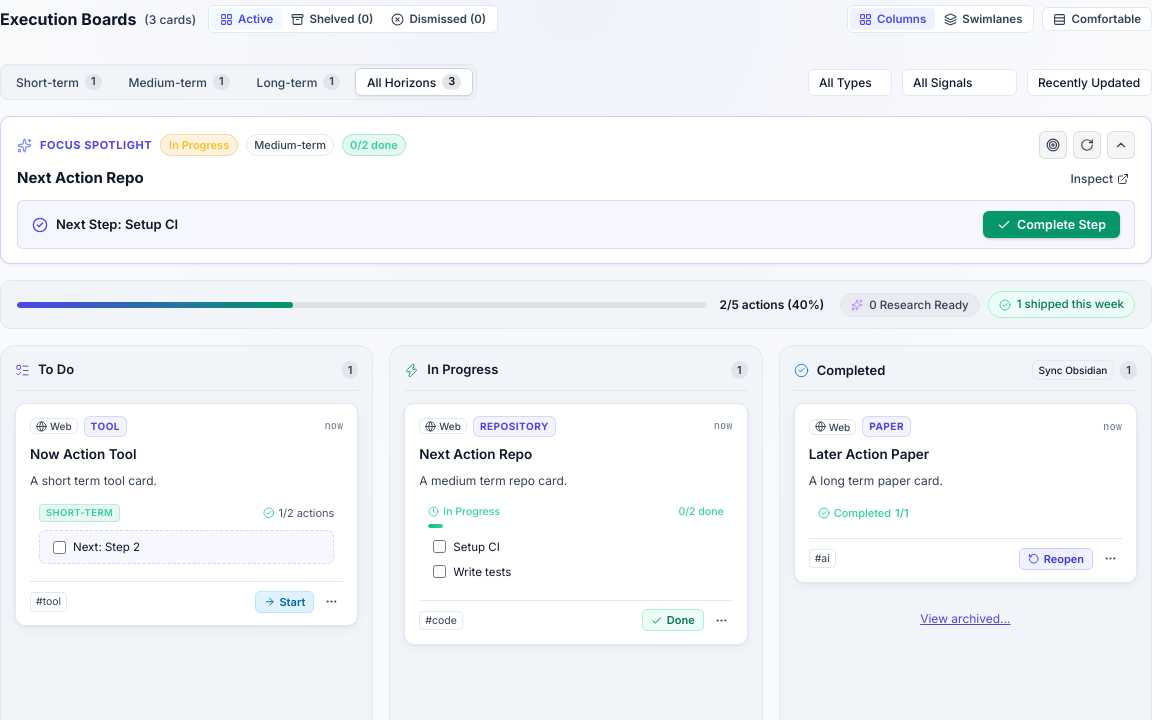
Test case: KanbanBoard Density & Usability › Execution Swimlanes (2D Strategic Matrix) › collapses and expands individual swimlane rows
Click the radio button labelled "Swimlanes": click(983, 19) [935,8,1032,30]
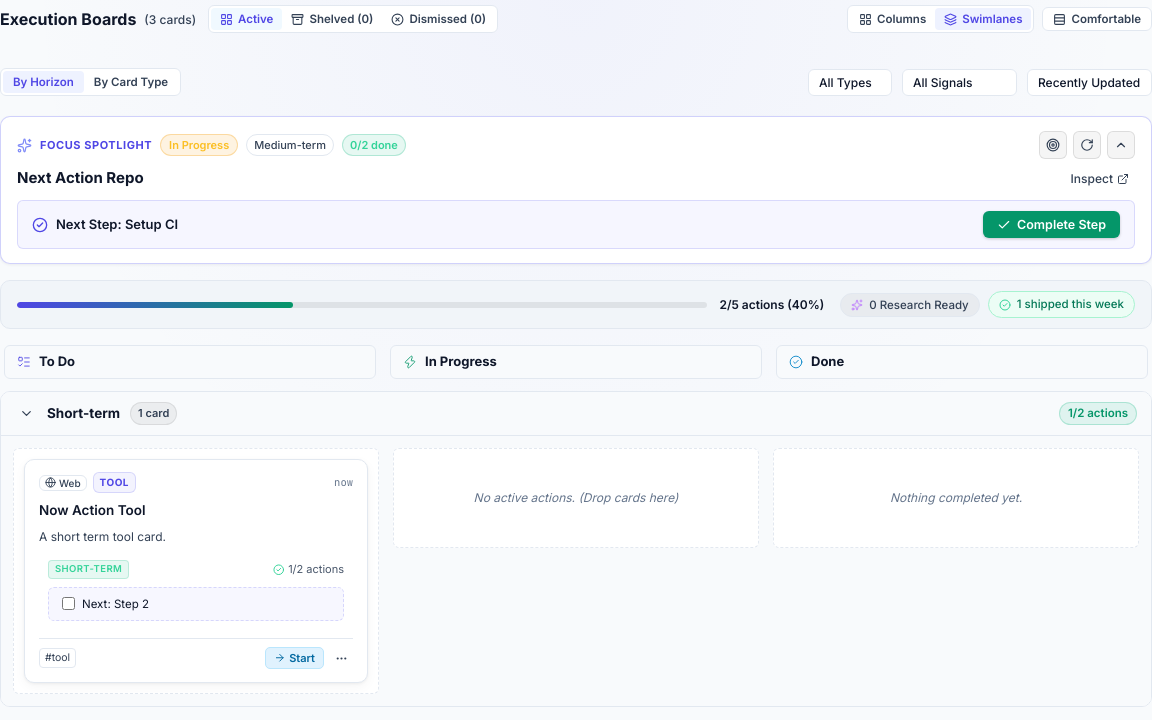
Expected: the element that starts with "Short-term" is shown, [0,391,1151,707]
Expected: the element with class "swimlane-grid" is shown, [1,436,1151,706]
Collapse Short-term row
Click the button with class "swimlane-collapse-btn": click(26, 413) [15,402,37,424]
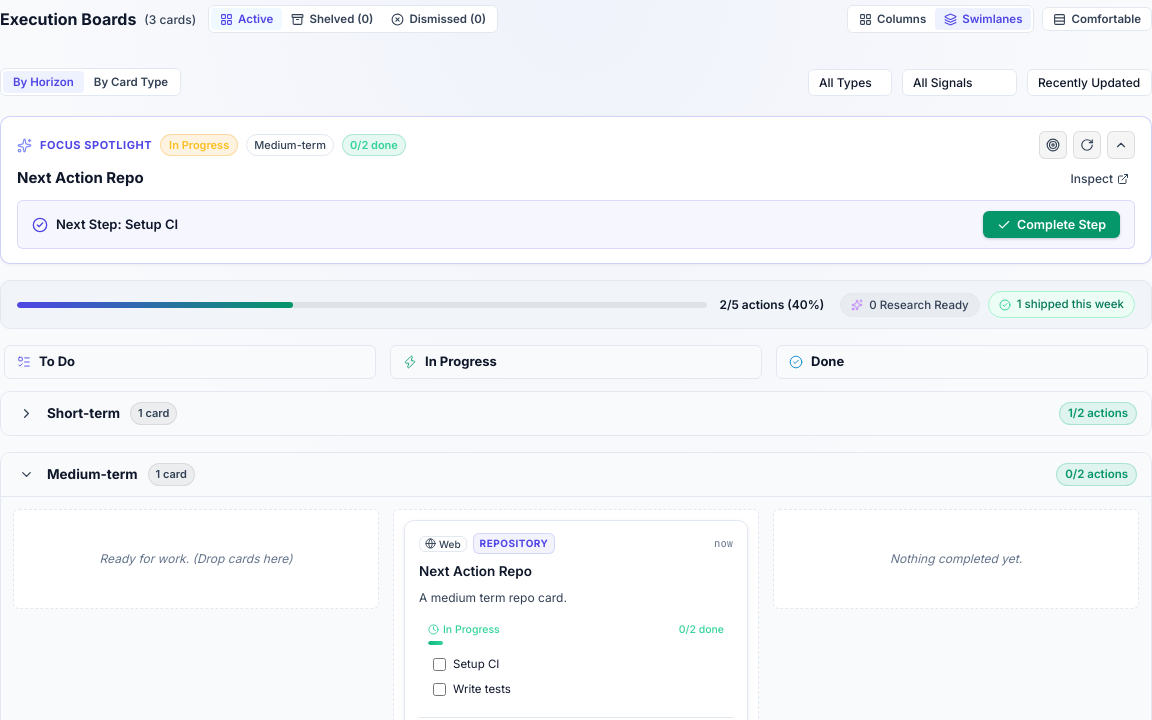
Expected: the element showing "Short-term 1 card 1/2 actions" has class "is-collapsed", [0,391,1151,436]
Expand Short-term row
Click the 1st button with class "swimlane-collapse-btn": click(26, 413) [15,402,37,424]
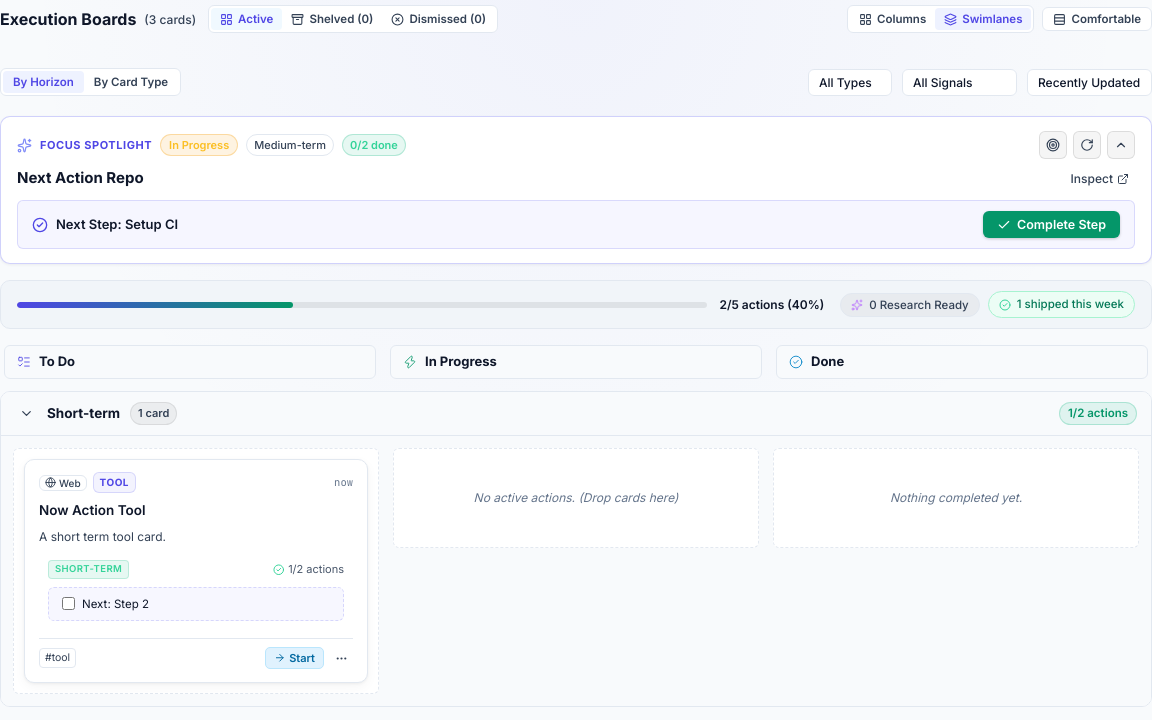
Expected: the element with class "swimlane-grid" is shown, [1,436,1151,706]
